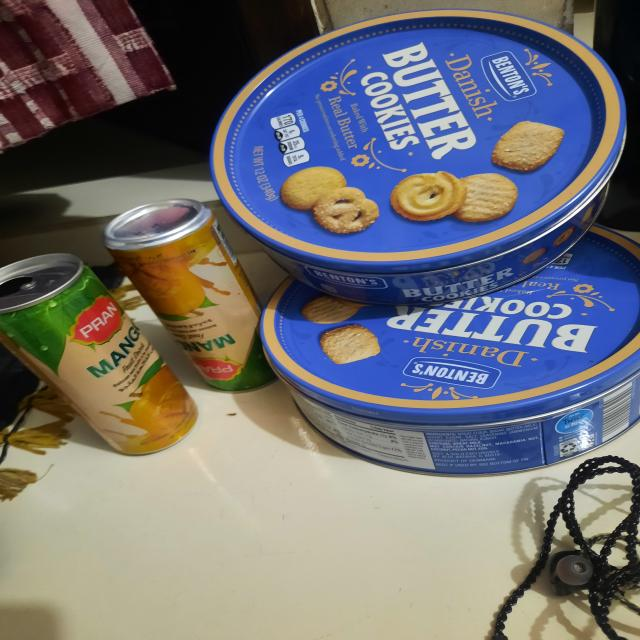Cable: (461, 483, 640, 640)
can: (222, 22, 640, 474), (0, 184, 315, 441)
